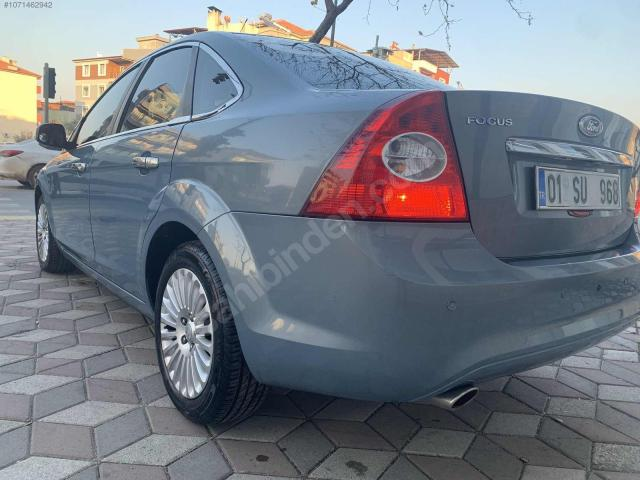plaka: (536, 167, 620, 210)
